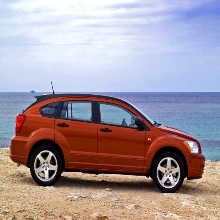no damage: (10, 93, 206, 193)
